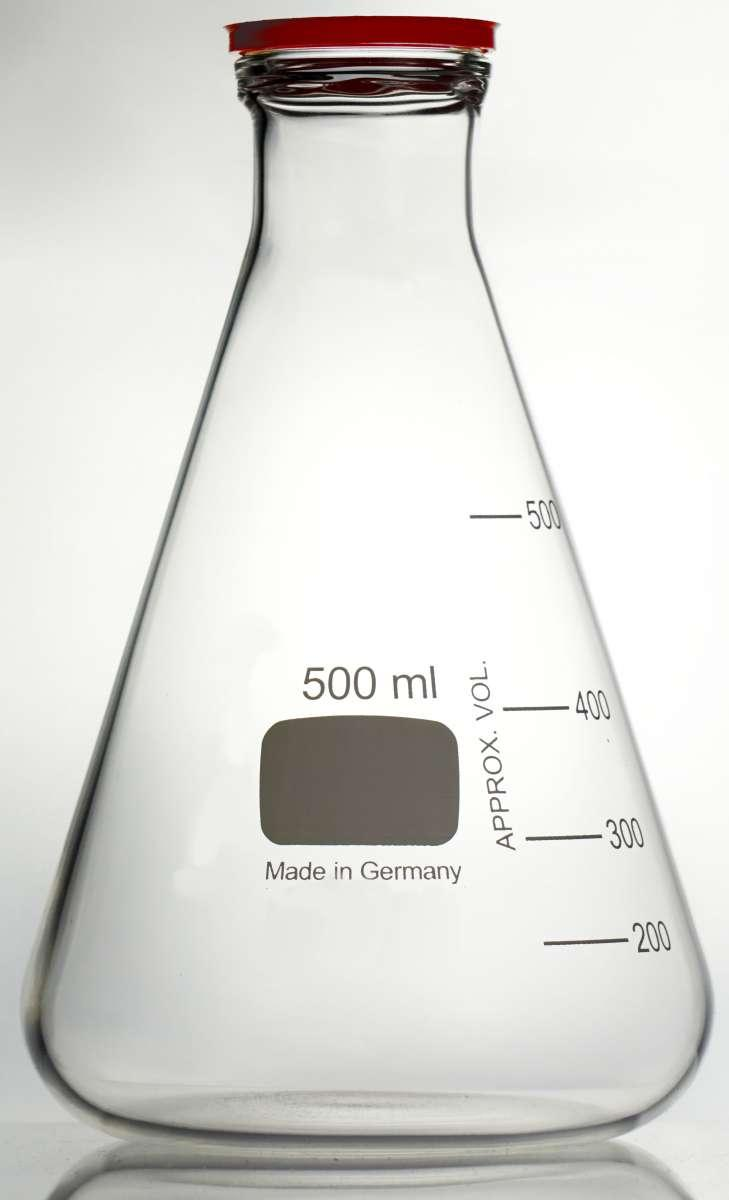Titrarion: (36, 9, 705, 1144)
